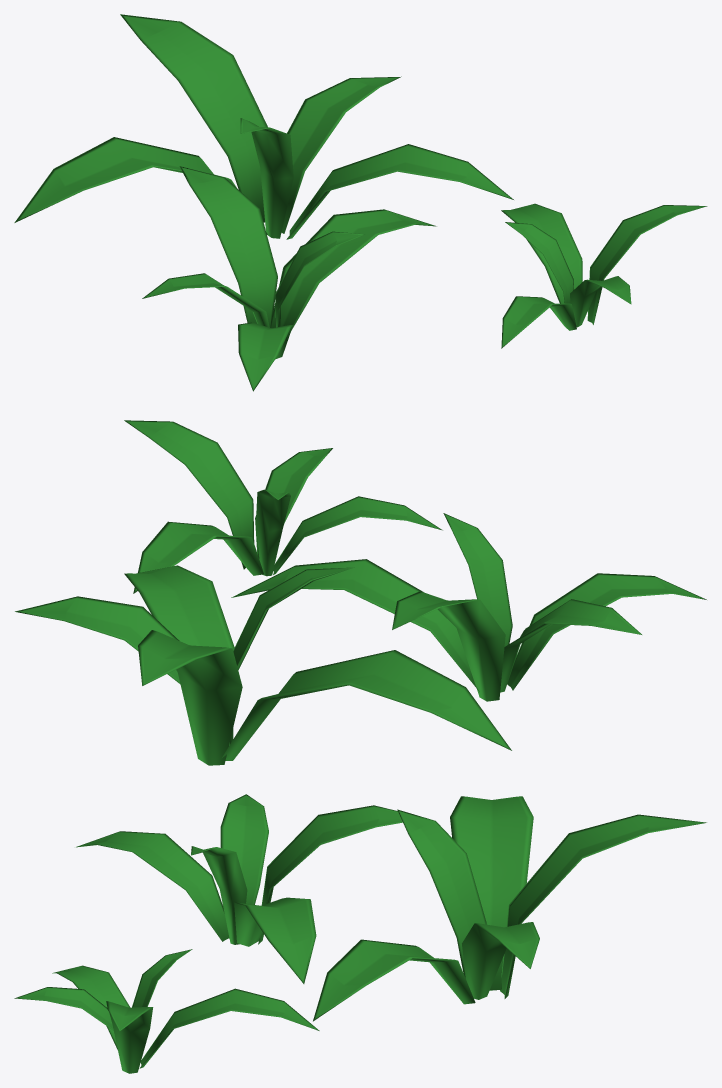
Rendered from plant_cluster_01.obj.
The picture shows the model from 3 angles, top to bottom: view 1: azimuth 30°, elevation 25°; view 2: azimuth 150°, elevation 25°; view 3: azimuth 270°, elevation 25°; orthographic projection. The views are drawn at different scales.
Parts seen in each view (by area): view 1: plant_cluster_01_Plane; view 2: plant_cluster_01_Plane; view 3: plant_cluster_01_Plane.
Boxes of the visible parts, box(x1,y1,x2,y2) form: plant_cluster_01_Plane: box(14, 14, 707, 391); plant_cluster_01_Plane: box(15, 420, 706, 765); plant_cluster_01_Plane: box(14, 794, 706, 1073).
Bounding box in the file's own units: 1.57 × 0.4668 × 1.79.
